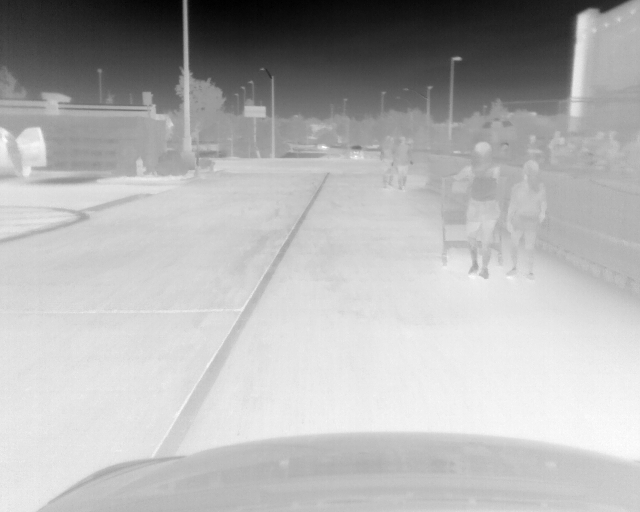car: (2, 127, 46, 178), (348, 144, 365, 161), (313, 142, 328, 152)
people: (460, 140, 501, 282), (509, 160, 549, 278), (377, 133, 397, 186), (395, 131, 413, 189), (547, 131, 569, 164), (7, 133, 23, 176), (580, 129, 601, 158), (603, 133, 623, 161), (517, 136, 542, 158)
